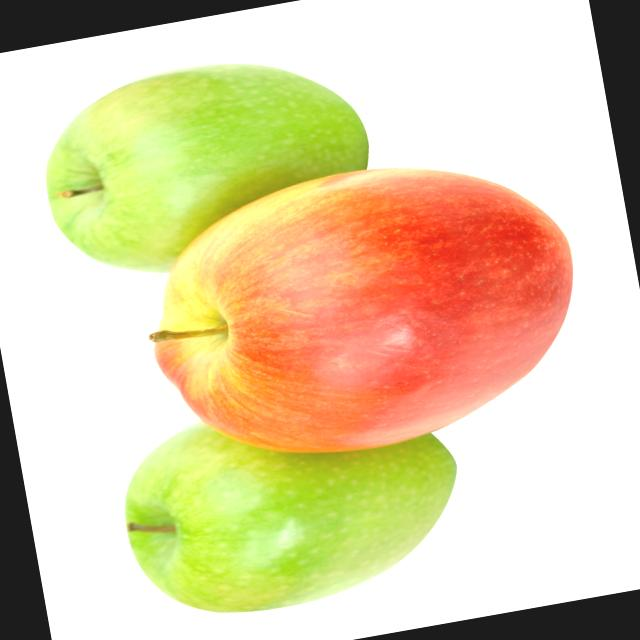apple: (117, 137, 600, 482), (104, 375, 474, 632), (19, 42, 382, 288)
